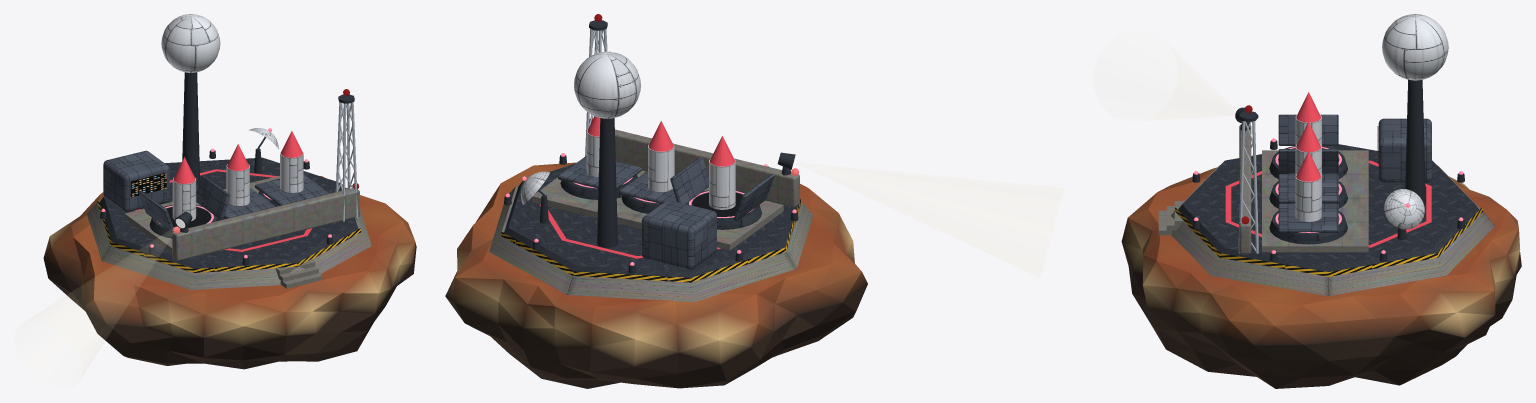
File: silo-L50.glb
3 renders of one model, left to right at view 1: azimuth 30°, elevation 25°; view 2: azimuth 150°, elevation 25°; view 3: azimuth 270°, elevation 25°, orthographic. The views are drawn at different scales.
Parts seen in each view (by area): view 1: object 1, object 4, object 44, object 2, anim:cell (×3), object 52, object 47, anim:doorR (×3), object 51, object 3, anim:doorL (×2), object 25 (+4 smaller); view 2: object 1, object 4, object 2, object 47, anim:cell (×3), object 44, object 52, object 25, object 51, anim:doorR (×3), object 3, anim:doorL (×2) (+3 smaller); view 3: object 1, object 4, object 2, object 25, object 52, anim:cell (×3), object 47, anim:doorR (×3), object 51, anim:doorL (×3), object 3, anim:rot (+5 smaller).
Part boxes in pixels (x1,y1,x2,y2): object 1: (43,176,416,369); object 4: (99,157,358,268); object 44: (172,188,359,260); object 2: (87,187,371,290); anim:cell (×3): (172,131,303,220); object 52: (161,14,220,72); object 47: (103,150,169,212); anim:doorR (×3): (196,174,328,219); object 51: (182,72,199,185); object 3: (97,199,361,272); anim:doorL (×2): (138,179,304,231); object 25: (124,176,328,253); object 1: (445,162,867,388); object 4: (504,164,798,277); object 2: (489,185,813,302); object 47: (641,200,716,269); anim:cell (×3): (586,116,735,209); object 44: (615,129,799,207); object 52: (574,51,640,118); object 25: (532,170,783,250); object 51: (597,118,617,248); anim:doorR (×3): (558,156,708,203); object 3: (500,198,801,282); anim:doorL (×2): (585,161,774,221); object 1: (1121,167,1521,388); object 4: (1178,144,1478,271); object 2: (1171,165,1494,296); object 25: (1262,150,1368,252); object 52: (1382,14,1448,80); anim:cell (×3): (1295,92,1321,221); object 47: (1378,118,1431,182); anim:doorR (×3): (1278,149,1338,232); object 51: (1405,79,1425,205); anim:doorL (×3): (1278,114,1338,217); object 3: (1174,207,1482,276); anim:rot: (1384,189,1424,229).
Bounding box in the file's own units: 8.57 × 5.28 × 6.43.
Materials: 17 (7 with a texture image).
